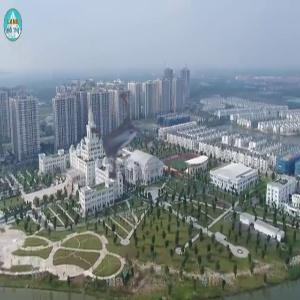drone: (76, 103, 173, 200)
